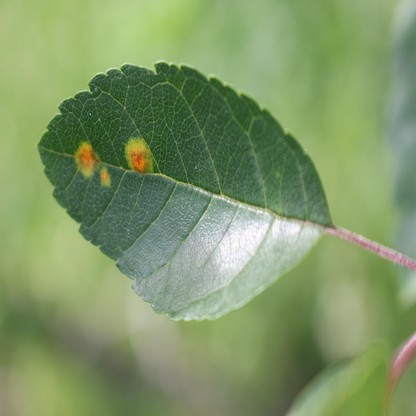rust: (126, 135, 153, 174), (74, 140, 95, 175), (99, 165, 110, 185)
